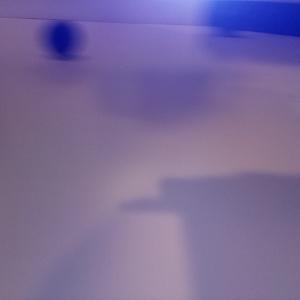dead_ball: (43, 20, 79, 57), (209, 1, 245, 35)
